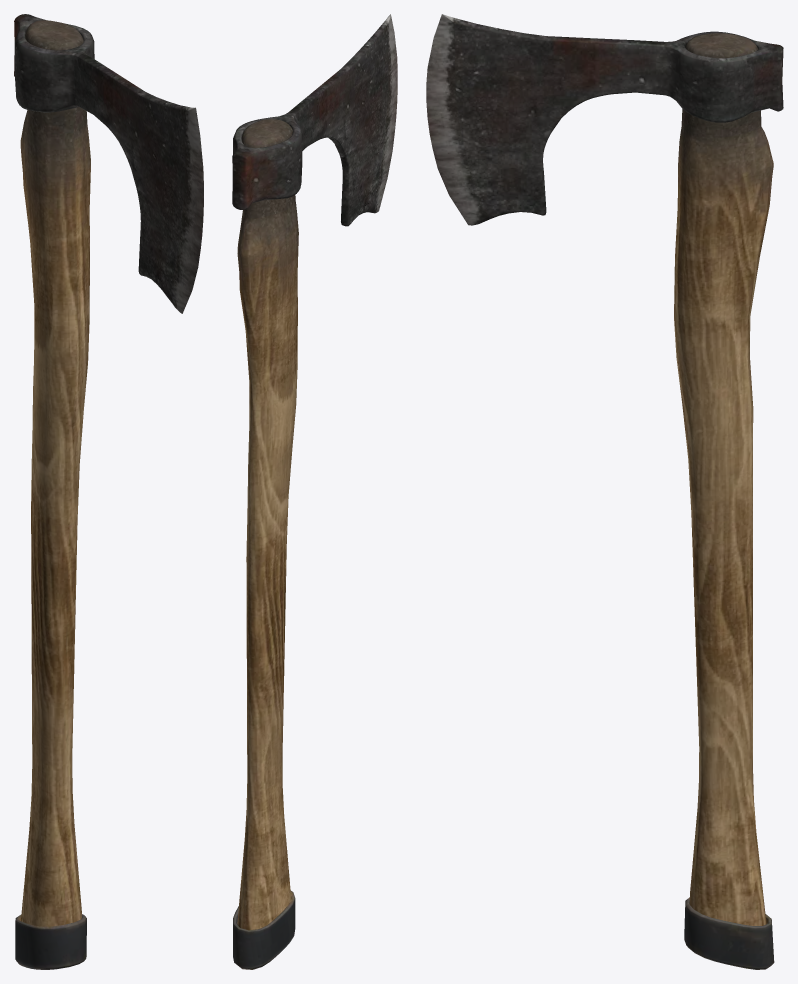
File: wooden_axe.gltf
3 views of the same model, side by side, from view 1: azimuth 30°, elevation 25°; view 2: azimuth 150°, elevation 25°; view 3: azimuth 270°, elevation 25° (orthographic). The views are drawn at different scales.
Visible parts, largest first — view 1: wooden_axe; view 2: wooden_axe; view 3: wooden_axe.
Part boxes in pixels (x1,y1,x2,y2): wooden_axe: [14, 14, 203, 969]; wooden_axe: [232, 14, 397, 969]; wooden_axe: [426, 14, 783, 969].
Size of the model in its own units: 0.0472 by 0.6303 by 0.2143.
1 material, 1 textured.
